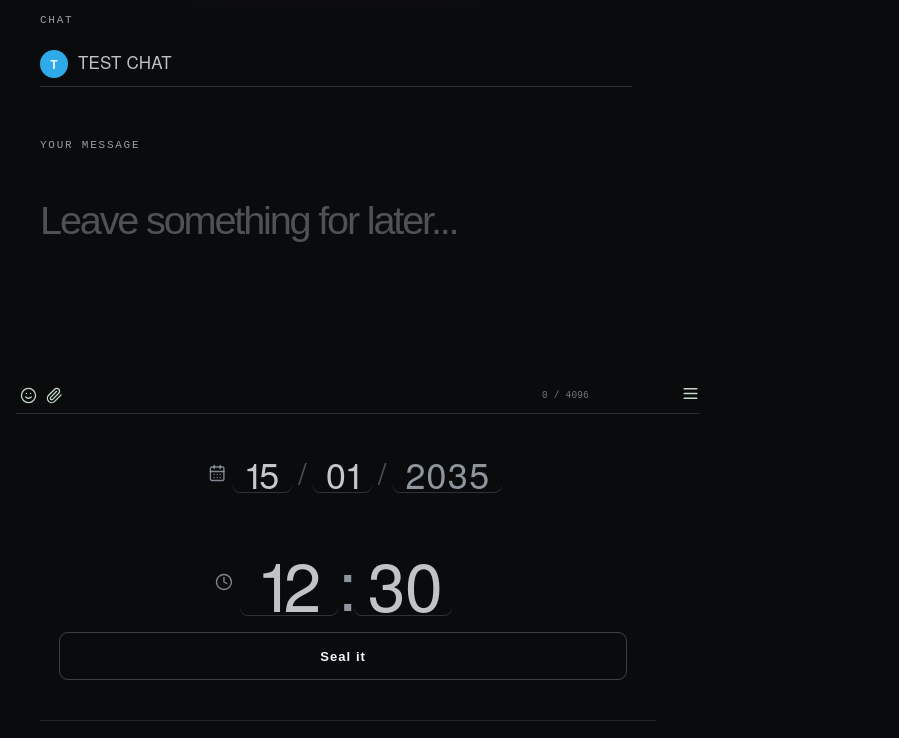
SchedulePage production composer › shows available Telegram effects inside the effect submenu
Click the button with class "message-send-button" at coordinates (690, 393), box [680, 383, 700, 403]
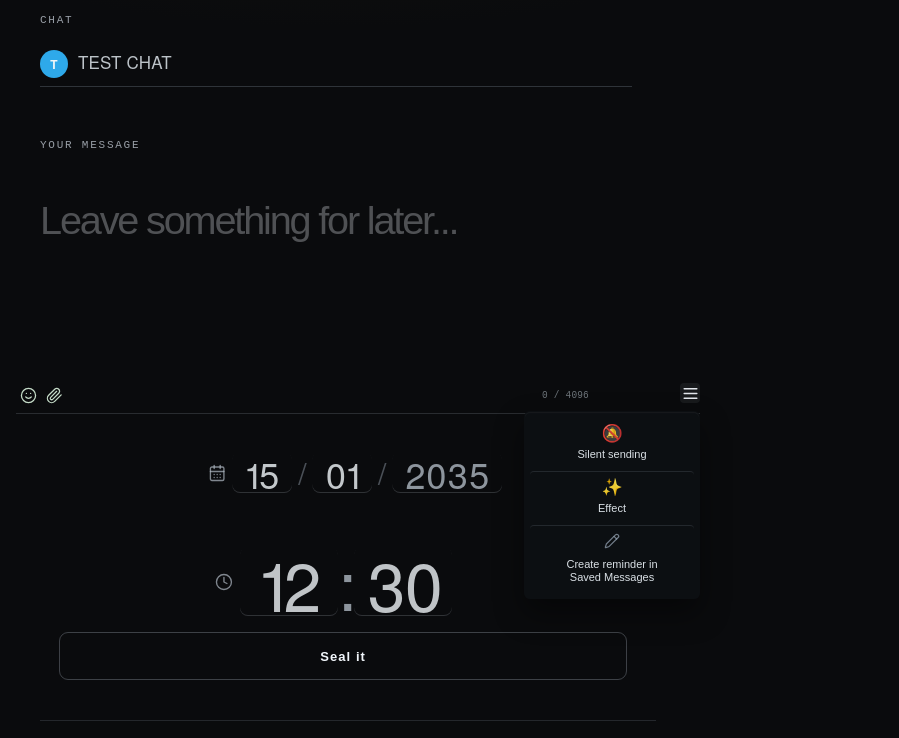
Click the menu item "✨ Effect" at coordinates (612, 498), box [530, 471, 694, 525]
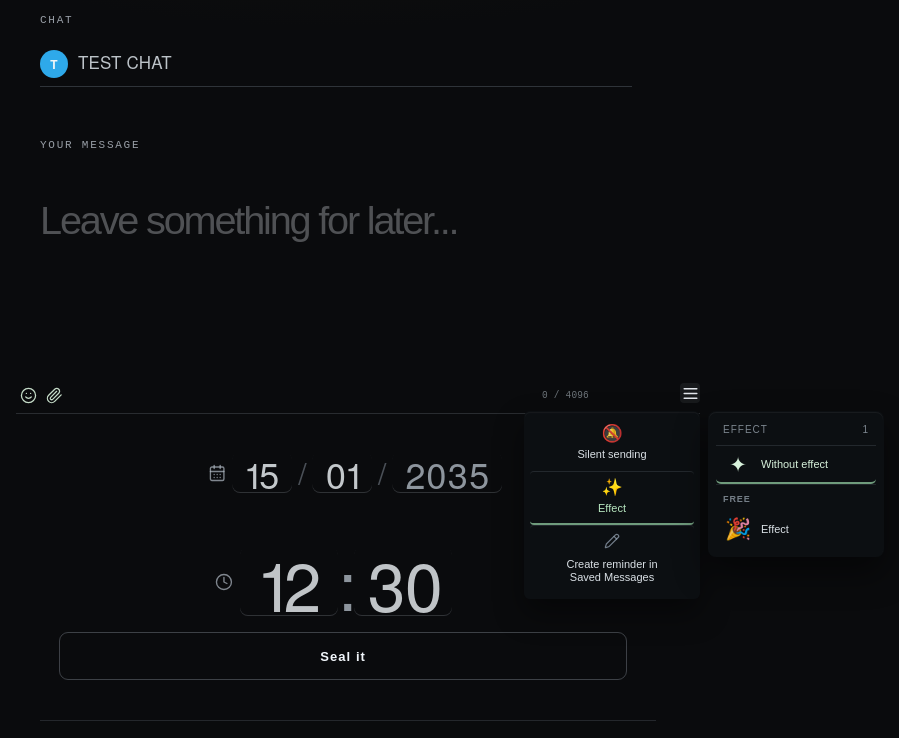
Check: the icon "🎉" is shown, box [724, 518, 752, 539]
